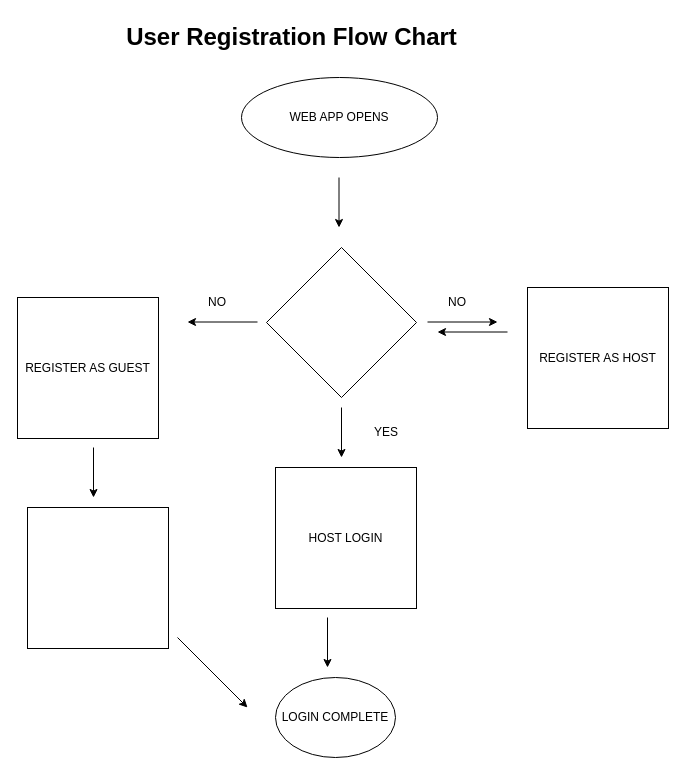
Some shapes in this 686 by 775 pixel diagram are drawn without their labels. The shapes that lost their labels are listed below. From the top down, each one's box as (x1, y1, x2, y2) in pixels, then its label:
(266, 246, 416, 398): IS USER REGISTERED
(26, 506, 168, 648): GUEST LOGIN
